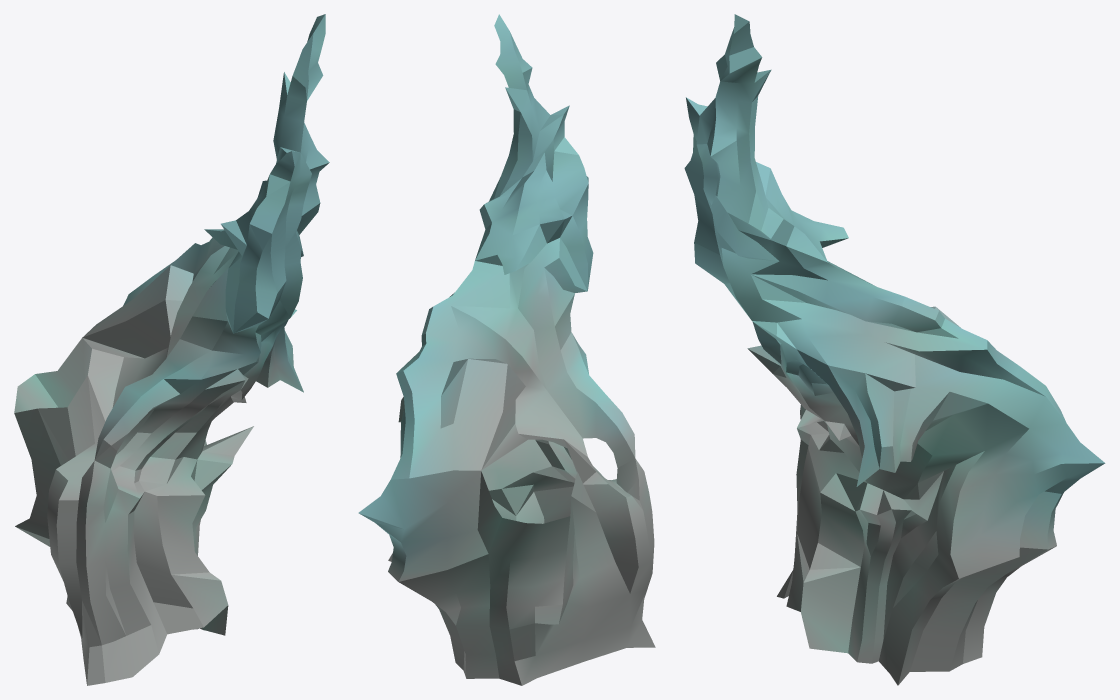
3 renders of one model, left to right at view 1: azimuth 30°, elevation 25°; view 2: azimuth 150°, elevation 25°; view 3: azimuth 270°, elevation 25°, orthographic. The views are drawn at different scales.
Visible parts, largest first — view 1: G:\FFXIV-MapTools\exports\l1f1\bg\ffxiv\lak_l1\fld\l1f1\bgpa; view 2: G:\FFXIV-MapTools\exports\l1f1\bg\ffxiv\lak_l1\fld\l1f1\bgpa; view 3: G:\FFXIV-MapTools\exports\l1f1\bg\ffxiv\lak_l1\fld\l1f1\bgpa.
Part boxes in pixels (x1=…): G:\FFXIV-MapTools\exports\l1f1\bg\ffxiv\lak_l1\fld\l1f1\bgpa: x1=14, y1=14, x2=329, y2=685; G:\FFXIV-MapTools\exports\l1f1\bg\ffxiv\lak_l1\fld\l1f1\bgpa: x1=358, y1=14, x2=655, y2=685; G:\FFXIV-MapTools\exports\l1f1\bg\ffxiv\lak_l1\fld\l1f1\bgpa: x1=684, y1=14, x2=1105, y2=685.
Bounding box in the file's own units: 10.33 × 25.31 × 13.85.
